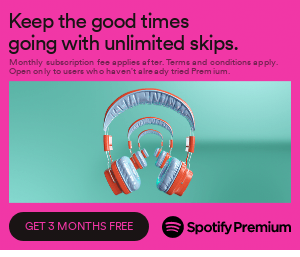fake_button: (5, 211, 153, 246)
